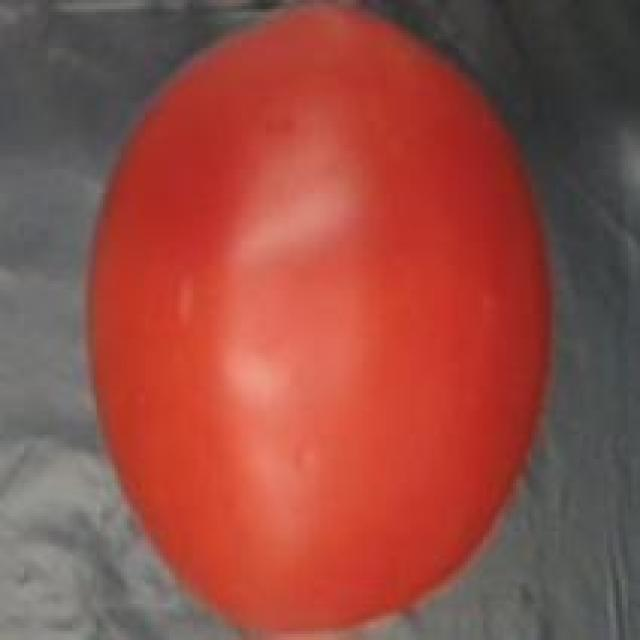ripe tomato: (63, 3, 580, 628)
